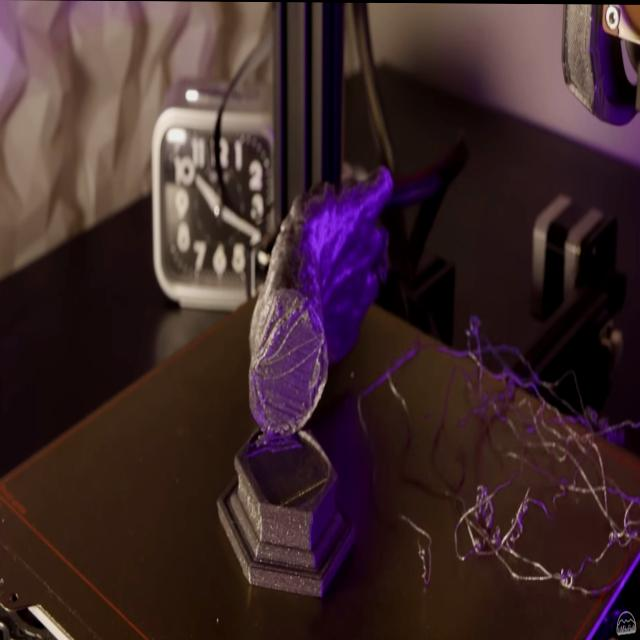spaghetti: (391, 308, 640, 640)
